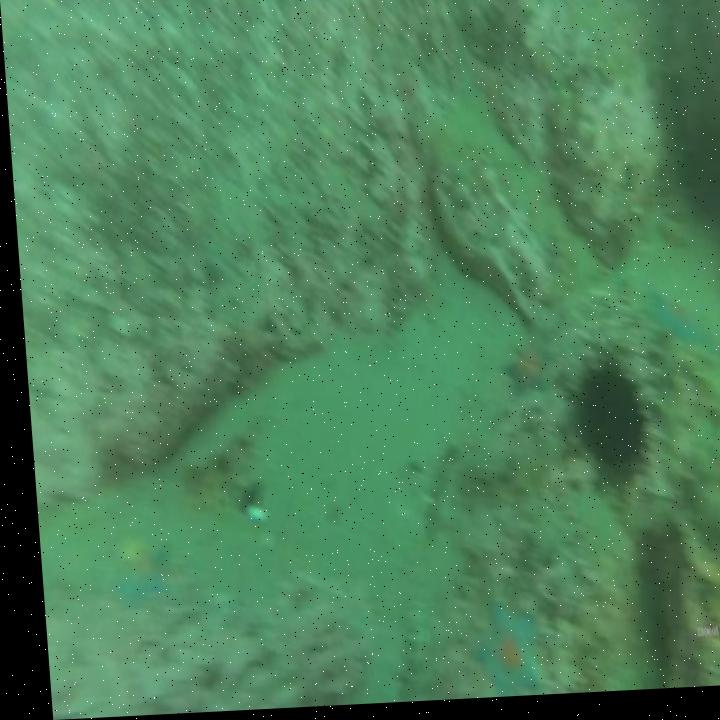echinus: (565, 354, 643, 499)
starfish: (460, 593, 538, 702), (98, 524, 167, 616), (636, 287, 711, 366), (493, 332, 553, 411)
